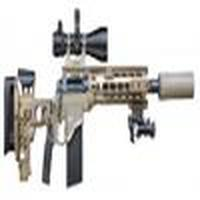gun: (2, 10, 198, 191)
